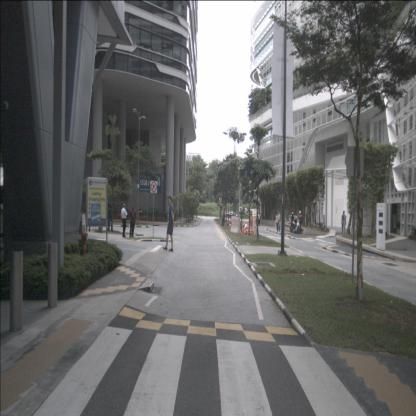human-pedestrian-adult: (163, 196, 174, 251), (121, 203, 129, 237), (129, 203, 136, 237), (107, 205, 114, 231), (106, 204, 111, 230), (341, 211, 346, 235), (277, 210, 281, 233), (298, 211, 302, 233), (276, 212, 279, 232)
movable_object-barrier: (230, 217, 241, 234), (252, 218, 257, 235), (250, 218, 253, 232)
movable_object-trafficcone: (240, 222, 244, 235), (246, 224, 250, 235), (251, 225, 254, 235)
vehicle-car: (249, 209, 260, 225), (226, 212, 238, 219)
vehicle-motorcycle: (293, 210, 303, 235), (289, 212, 298, 233)
